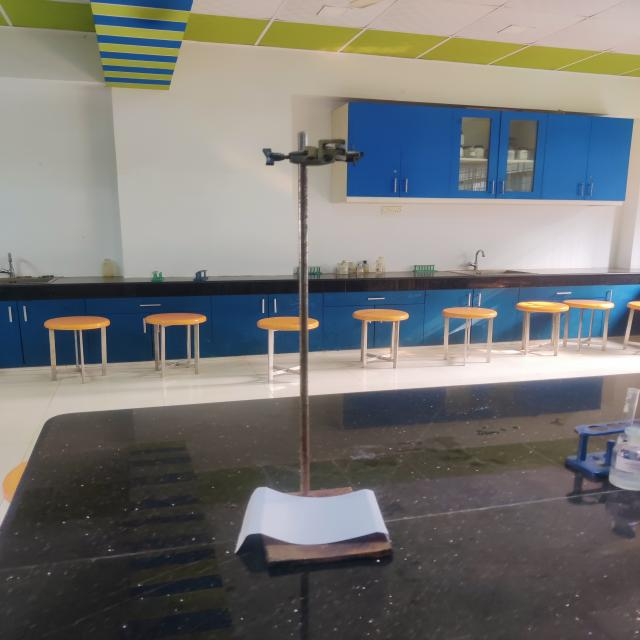Burette_Stands: (211, 109, 437, 591)
